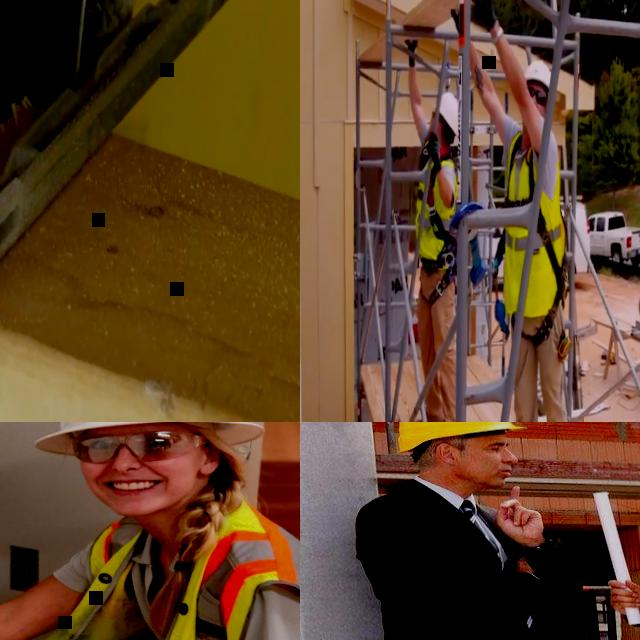Hardhat: (32, 422, 268, 454), (399, 422, 524, 452), (435, 90, 459, 133), (525, 60, 552, 86)
NO-Mask: (98, 475, 192, 515), (450, 457, 515, 487)
NO-Safety Vest: (358, 494, 561, 640)
Person: (0, 422, 300, 640), (349, 422, 640, 640), (445, 0, 586, 422), (400, 36, 462, 422)
Safety Vest: (0, 507, 300, 640), (507, 129, 565, 317), (417, 141, 458, 267)
vehicle: (488, 196, 593, 293), (588, 210, 640, 264)
